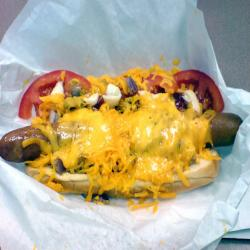hotdog: (10, 96, 233, 197)
